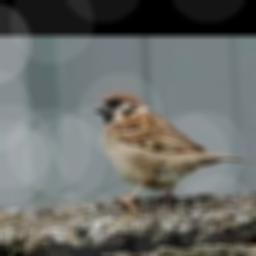Sparrow: (92, 93, 248, 211)
